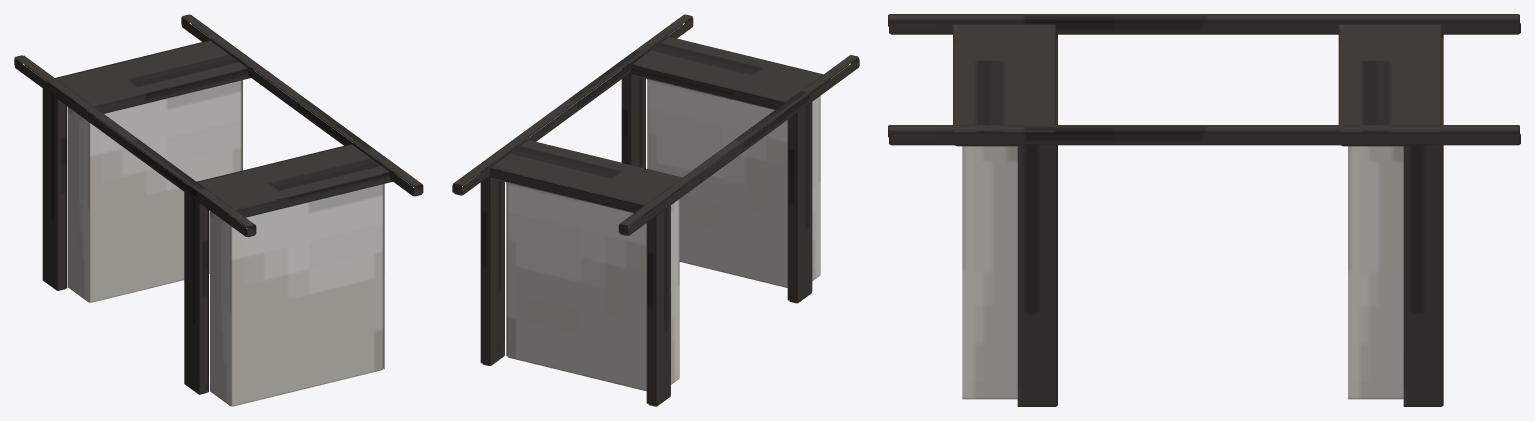
Rendered from pz_house_bunk_foot.obj.
3 views of the same model, side by side, from view 1: azimuth 30°, elevation 25°; view 2: azimuth 150°, elevation 25°; view 3: azimuth 270°, elevation 25° (orthographic). The views are drawn at different scales.
Parts seen in each view (by area): view 1: pz_house_bunk_foot_|_7_colchao, pz_house_bunk_foot_|_3_colchao, pz_house_bunk_foot_|_4_estrutura_madeira, pz_house_bunk_foot_|_8_estrutura_madeira, pz_house_bunk_foot_|_5_estrutura_madeira, pz_house_bunk_foot_|_9_estrutura_madeira, pz_house_bunk_foot_|_1_estrutura_madeira, pz_house_bunk_foot_|_2_estrutura_madeira; view 2: pz_house_bunk_foot_|_3_colchao, pz_house_bunk_foot_|_7_colchao, pz_house_bunk_foot_|_4_estrutura_madeira, pz_house_bunk_foot_|_8_estrutura_madeira, pz_house_bunk_foot_|_9_estrutura_madeira, pz_house_bunk_foot_|_5_estrutura_madeira, pz_house_bunk_foot_|_1_estrutura_madeira, pz_house_bunk_foot_|_6_estrutura_madeira, pz_house_bunk_foot_|_2_estrutura_madeira, pz_house_bunk_foot_|_10_estrutura_madeira; view 3: pz_house_bunk_foot_|_3_colchao, pz_house_bunk_foot_|_7_colchao, pz_house_bunk_foot_|_2_estrutura_madeira, pz_house_bunk_foot_|_1_estrutura_madeira, pz_house_bunk_foot_|_4_estrutura_madeira, pz_house_bunk_foot_|_8_estrutura_madeira, pz_house_bunk_foot_|_6_estrutura_madeira, pz_house_bunk_foot_|_10_estrutura_madeira.
Boxes of the visible parts, x1=… form: pz_house_bunk_foot_|_7_colchao: x1=210, y1=184, x2=384, y2=406; pz_house_bunk_foot_|_3_colchao: x1=68, y1=80, x2=242, y2=302; pz_house_bunk_foot_|_4_estrutura_madeira: x1=47, y1=39, x2=252, y2=115; pz_house_bunk_foot_|_8_estrutura_madeira: x1=189, y1=143, x2=393, y2=219; pz_house_bunk_foot_|_5_estrutura_madeira: x1=42, y1=88, x2=67, y2=290; pz_house_bunk_foot_|_9_estrutura_madeira: x1=184, y1=191, x2=208, y2=394; pz_house_bunk_foot_|_1_estrutura_madeira: x1=14, y1=55, x2=256, y2=237; pz_house_bunk_foot_|_2_estrutura_madeira: x1=181, y1=14, x2=423, y2=196; pz_house_bunk_foot_|_3_colchao: x1=506, y1=182, x2=679, y2=391; pz_house_bunk_foot_|_7_colchao: x1=647, y1=79, x2=820, y2=287; pz_house_bunk_foot_|_4_estrutura_madeira: x1=485, y1=139, x2=689, y2=215; pz_house_bunk_foot_|_8_estrutura_madeira: x1=626, y1=36, x2=830, y2=111; pz_house_bunk_foot_|_9_estrutura_madeira: x1=787, y1=102, x2=812, y2=303; pz_house_bunk_foot_|_5_estrutura_madeira: x1=646, y1=205, x2=670, y2=406; pz_house_bunk_foot_|_1_estrutura_madeira: x1=618, y1=55, x2=859, y2=235; pz_house_bunk_foot_|_6_estrutura_madeira: x1=480, y1=169, x2=504, y2=365; pz_house_bunk_foot_|_2_estrutura_madeira: x1=452, y1=14, x2=693, y2=195; pz_house_bunk_foot_|_10_estrutura_madeira: x1=621, y1=65, x2=645, y2=168; pz_house_bunk_foot_|_3_colchao: x1=1348, y1=146, x2=1403, y2=399; pz_house_bunk_foot_|_7_colchao: x1=962, y1=146, x2=1017, y2=399; pz_house_bunk_foot_|_2_estrutura_madeira: x1=888, y1=125, x2=1520, y2=145; pz_house_bunk_foot_|_1_estrutura_madeira: x1=888, y1=14, x2=1520, y2=34; pz_house_bunk_foot_|_4_estrutura_madeira: x1=1338, y1=21, x2=1443, y2=146; pz_house_bunk_foot_|_8_estrutura_madeira: x1=953, y1=21, x2=1057, y2=146; pz_house_bunk_foot_|_6_estrutura_madeira: x1=1403, y1=144, x2=1443, y2=406; pz_house_bunk_foot_|_10_estrutura_madeira: x1=1017, y1=144, x2=1057, y2=406.
Bounding box in the file's own units: 0.9 × 0.985 × 2.05.
1 material, 1 textured.
